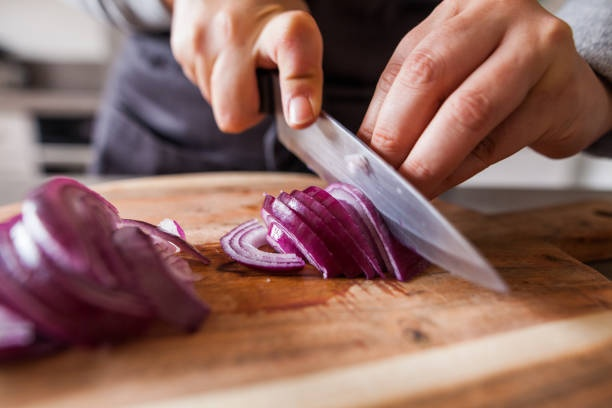knife: (249, 57, 509, 292)
